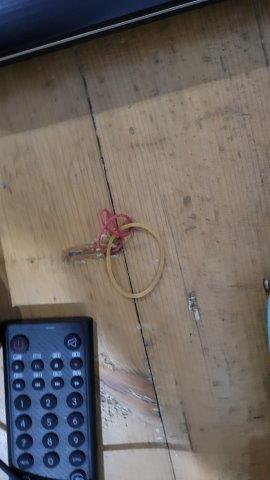karet: (97, 210, 166, 297)
